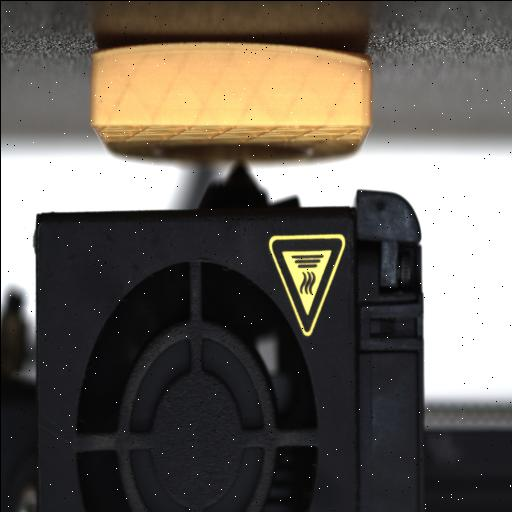warp: (87, 34, 177, 70), (320, 40, 376, 80)
